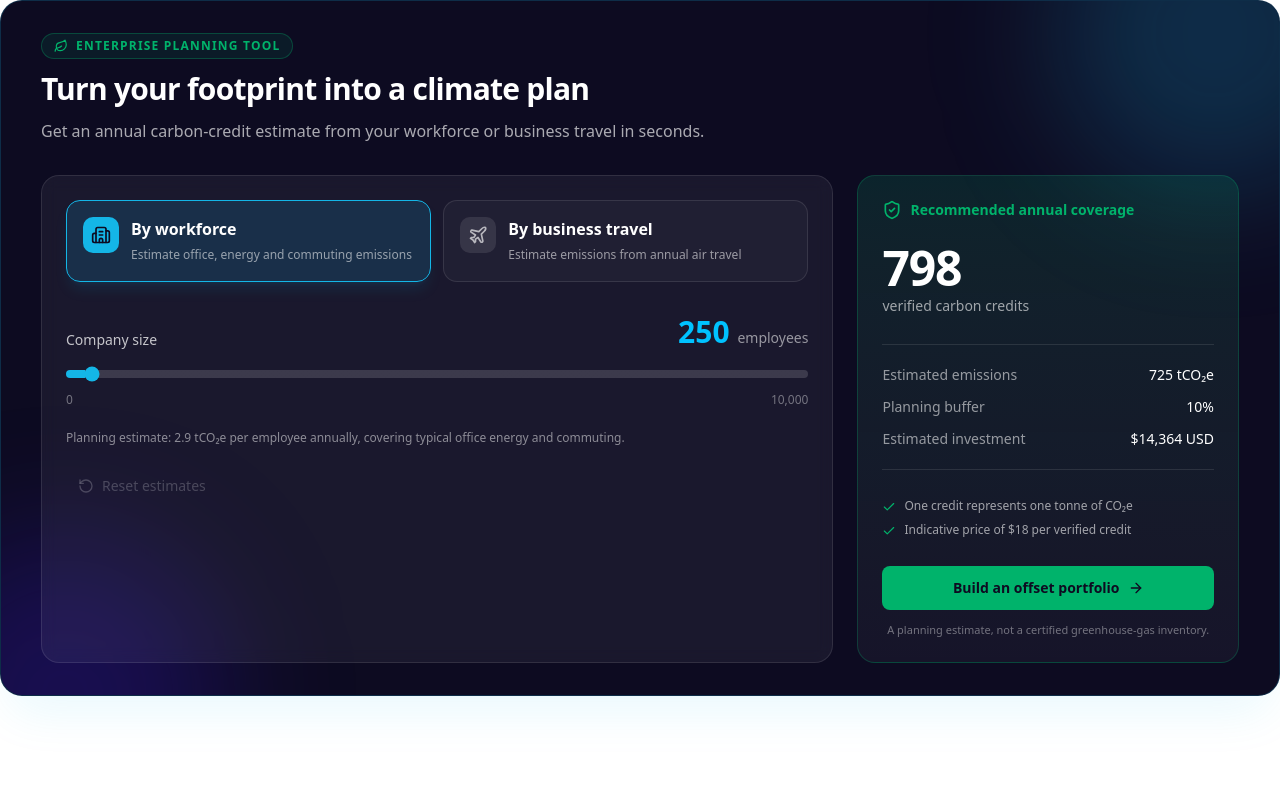
Test: CarbonOffsetCalculator › shows disabled states when no credits are required
Step 1. Set the slider labelled "Company size" to "0" → (74, 374), box [66,370,808,378]
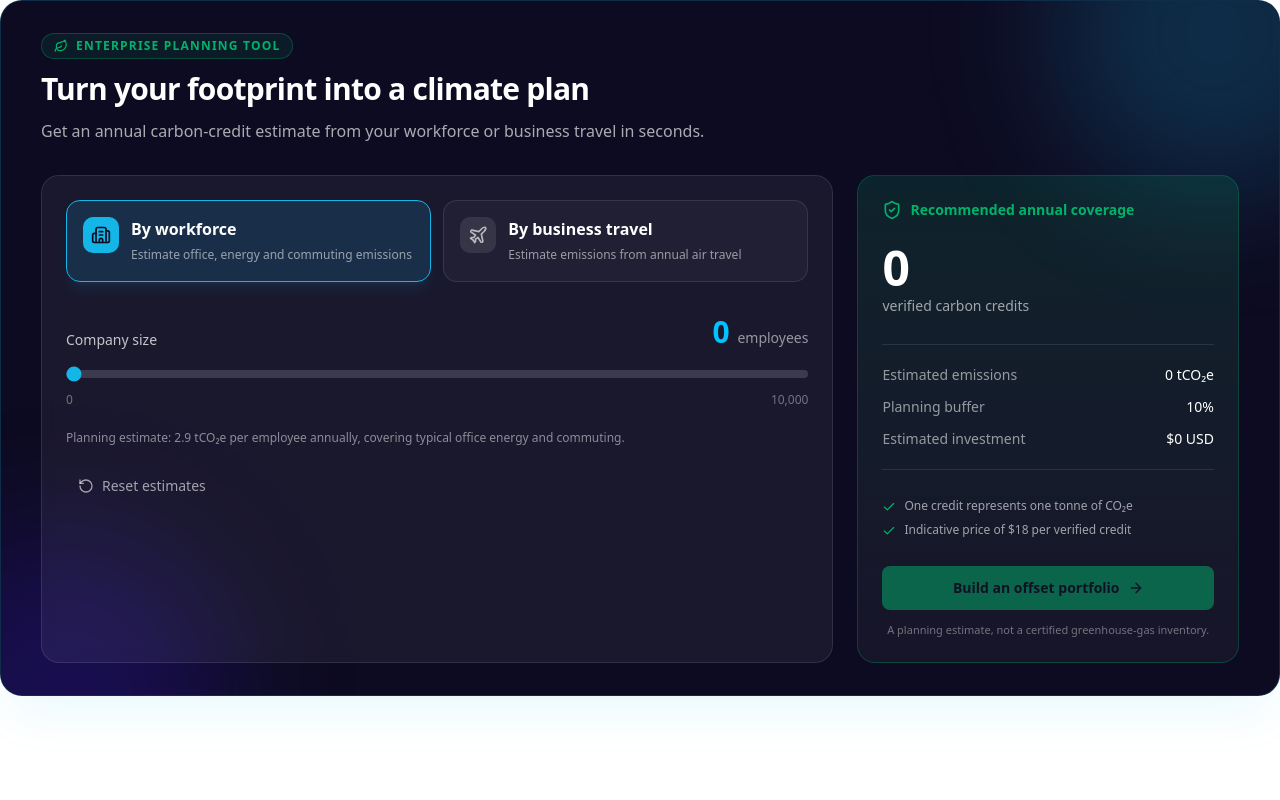
Expected: the button "Build an offset portfolio" is disabled, [882,566,1214,610]
Now the button "Reset estimates" is enabled, box [66,468,218,504]
